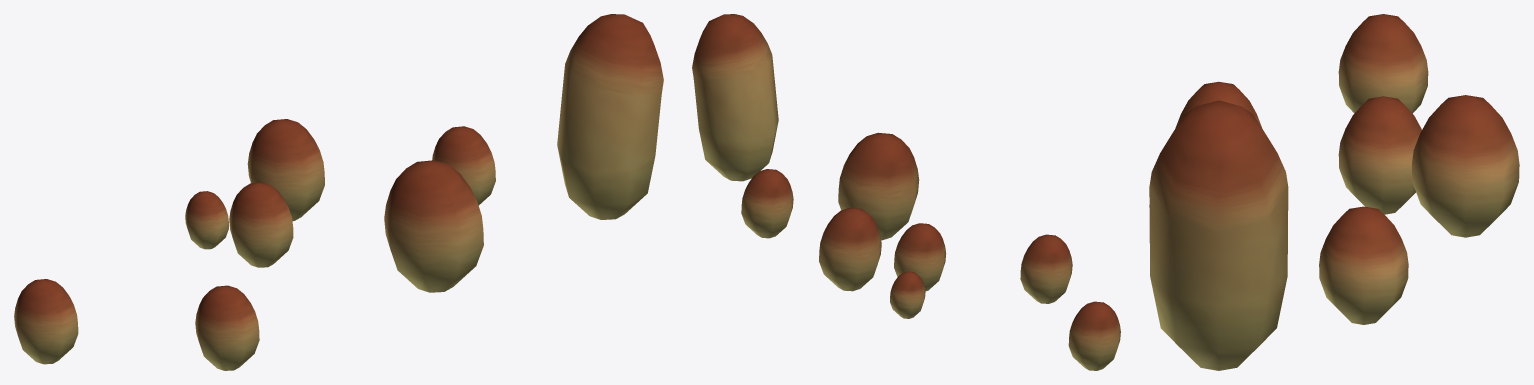
File: Cartoon Seaweed_13-1-40.fbx
The picture shows the model from 3 angles, left to right: view 1: azimuth 30°, elevation 25°; view 2: azimuth 150°, elevation 25°; view 3: azimuth 270°, elevation 25°; orthographic projection. The views are drawn at different scales.
Visible parts, largest first — view 1: Cartoon Seaweed_13.1.40; view 2: Cartoon Seaweed_13.1.40; view 3: Cartoon Seaweed_13.1.40.
Part boxes in pixels (x1,y1,x2,y2): Cartoon Seaweed_13.1.40: (14, 14, 663, 370); Cartoon Seaweed_13.1.40: (692, 14, 1120, 370); Cartoon Seaweed_13.1.40: (1149, 14, 1519, 370).
Bounding box in the file's own units: 20.62 × 8.94 × 8.42.
Materials: 1 (1 with a texture image).
